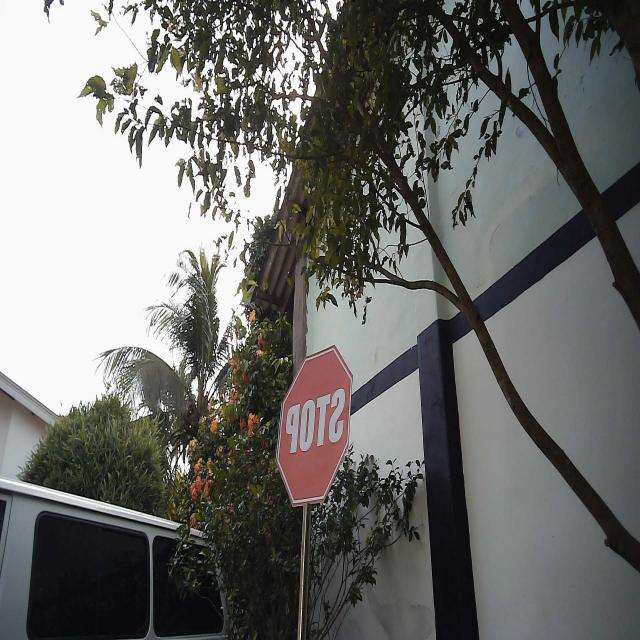stop: (274, 341, 354, 511)
